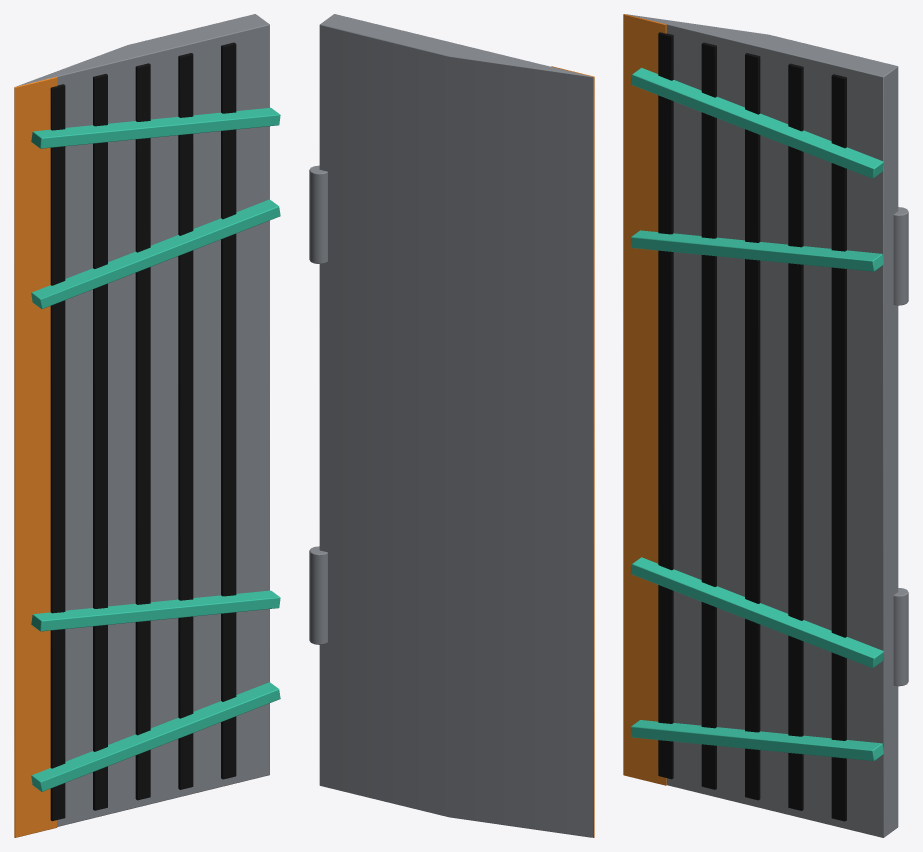
Rendered from ramp_tip.obj.
3 renders of one model, left to right at view 1: azimuth 30°, elevation 25°; view 2: azimuth 150°, elevation 25°; view 3: azimuth 330°, elevation 25°, orthographic.
Parts seen in each view (by area): view 1: ramp_tip; view 2: ramp_tip; view 3: ramp_tip.
Part boxes in pixels (x1,y1,x2,y2): ramp_tip: (14, 14, 280, 837); ramp_tip: (309, 14, 594, 837); ramp_tip: (623, 14, 908, 837).
Bounding box in the file's own units: 0.31 × 0.84 × 0.06.
